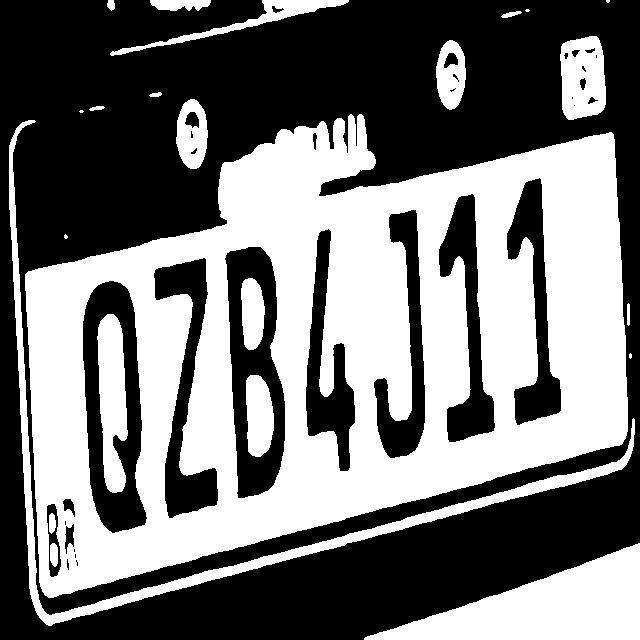1: (498, 175, 570, 432), (433, 190, 503, 446)
4: (298, 223, 366, 481)
b: (222, 238, 288, 507)
j: (370, 208, 435, 461)
q: (78, 277, 152, 542)
z: (148, 252, 222, 522)
